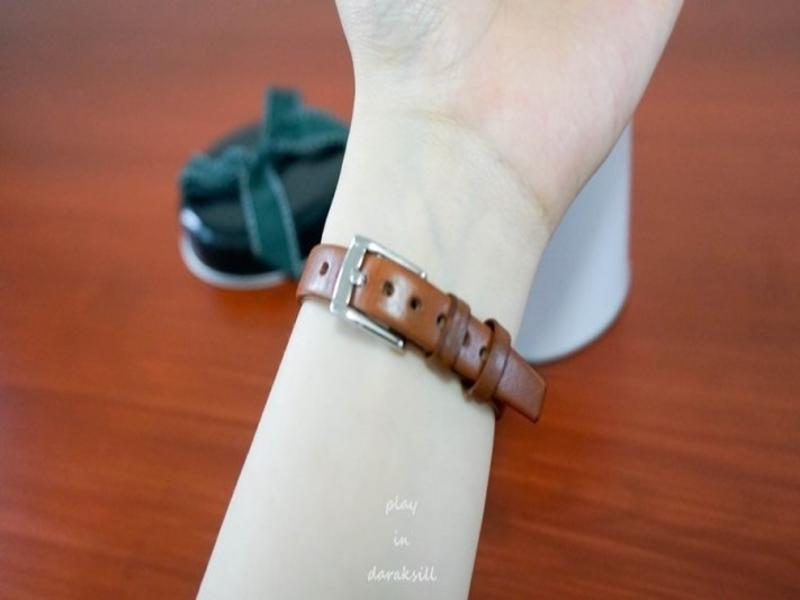watch: (292, 240, 545, 422)
